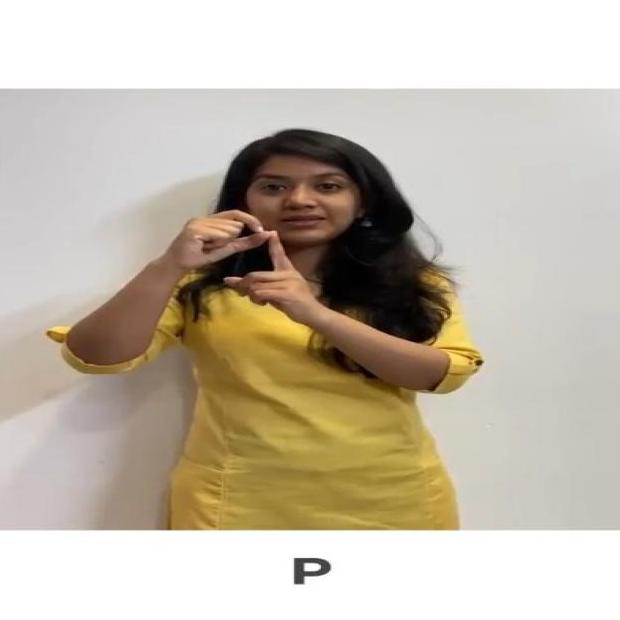O: (158, 206, 325, 333)
